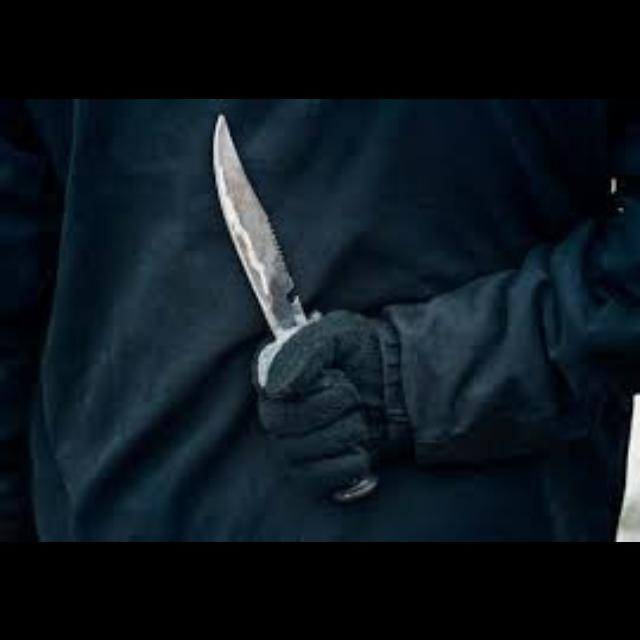knife: (50, 105, 640, 541), (208, 110, 334, 364), (264, 315, 400, 497)
